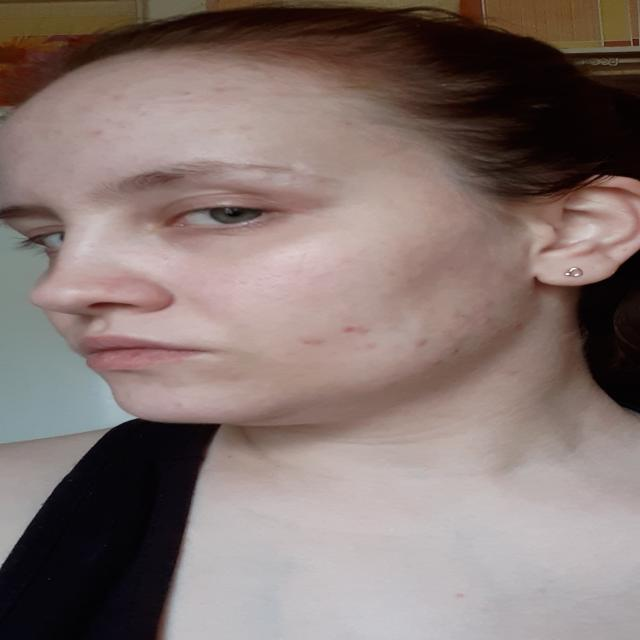Acne: (297, 337, 337, 348), (202, 125, 260, 132), (337, 324, 373, 335), (472, 314, 494, 326), (357, 342, 382, 352), (412, 336, 431, 349), (77, 102, 97, 112), (210, 85, 235, 93), (108, 93, 127, 103), (84, 129, 104, 138), (99, 116, 115, 125), (171, 400, 188, 408), (510, 321, 525, 330), (478, 300, 495, 307), (177, 90, 193, 97), (431, 359, 442, 369), (450, 346, 462, 355), (96, 88, 108, 94)
